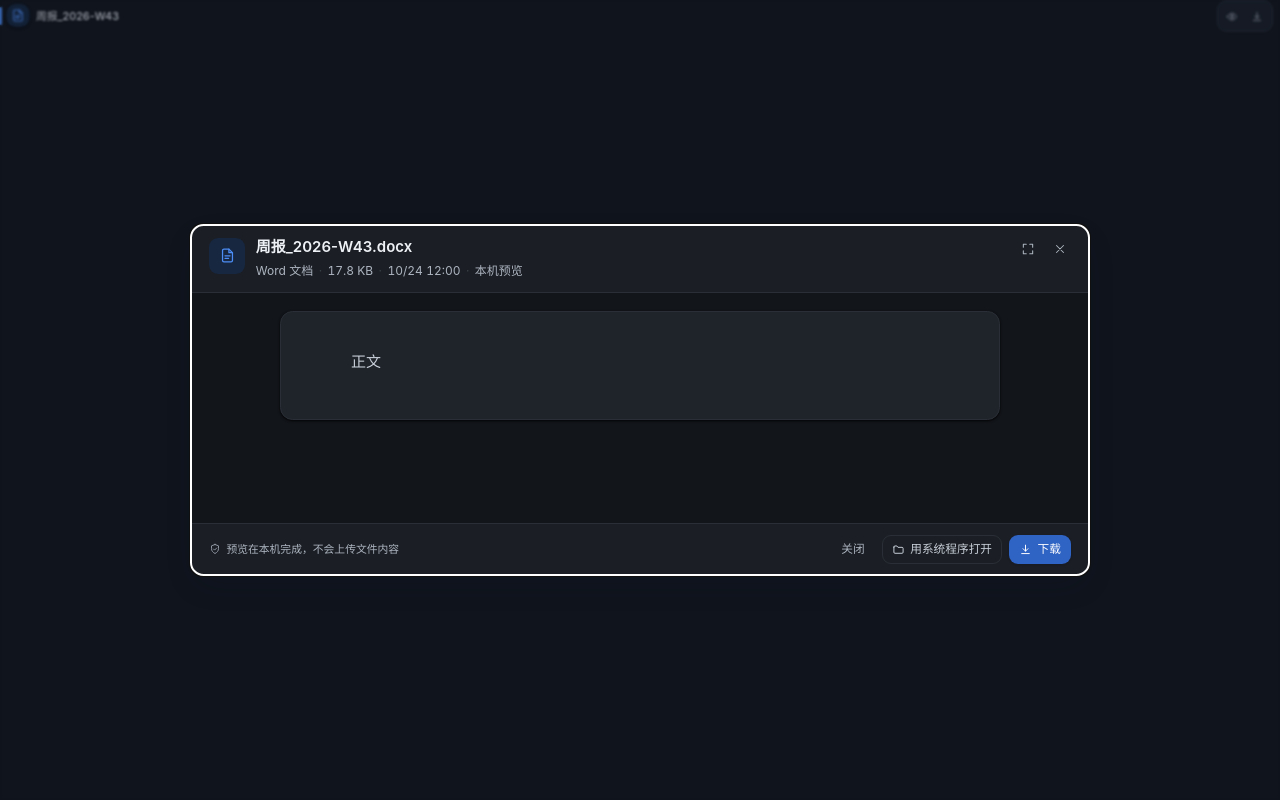
Scenario: ArtifactCard › 预览按钮打开弹窗，关闭后收起
Earlier steps of the test are not shown.
Expected: the text "正文" is shown, 351,352 -> 381,371
Click the button "关闭".
click(853, 550)  # box 831,535 -> 875,564
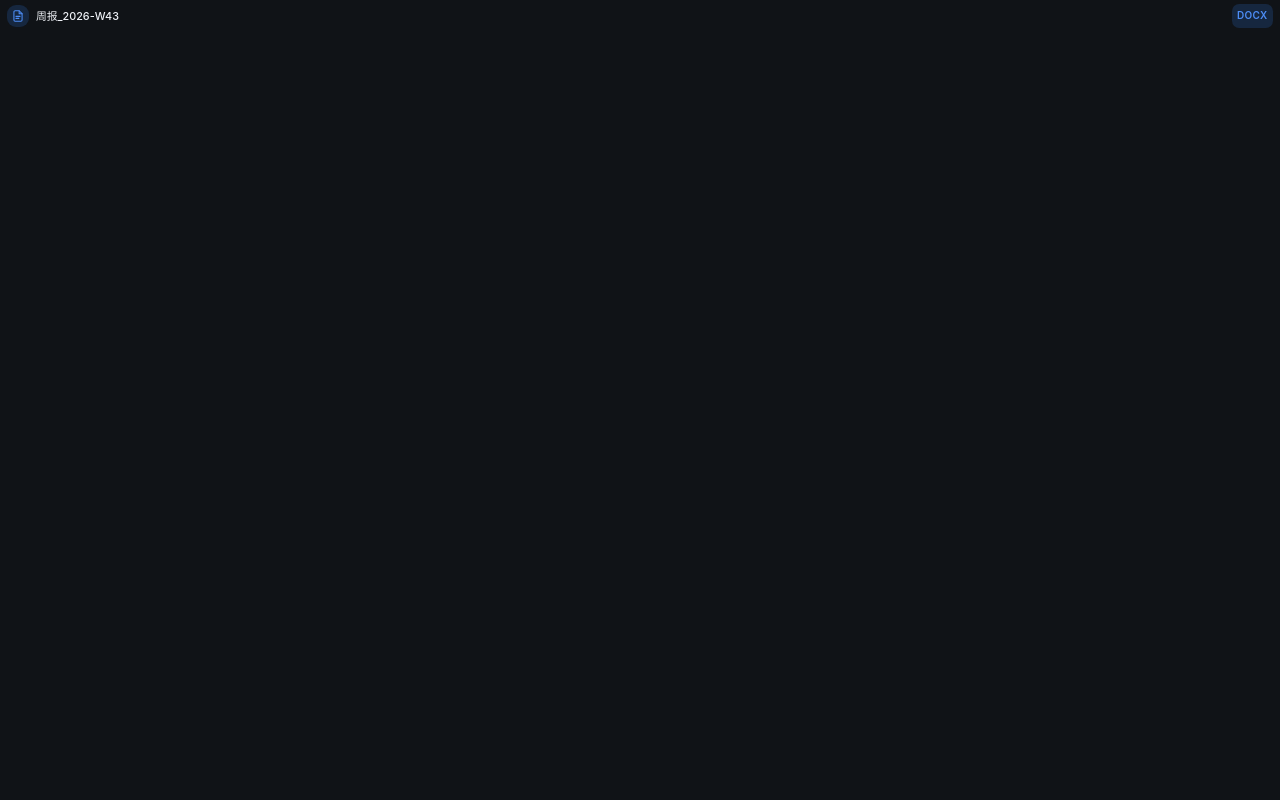
Expected: the text "正文" is gone
